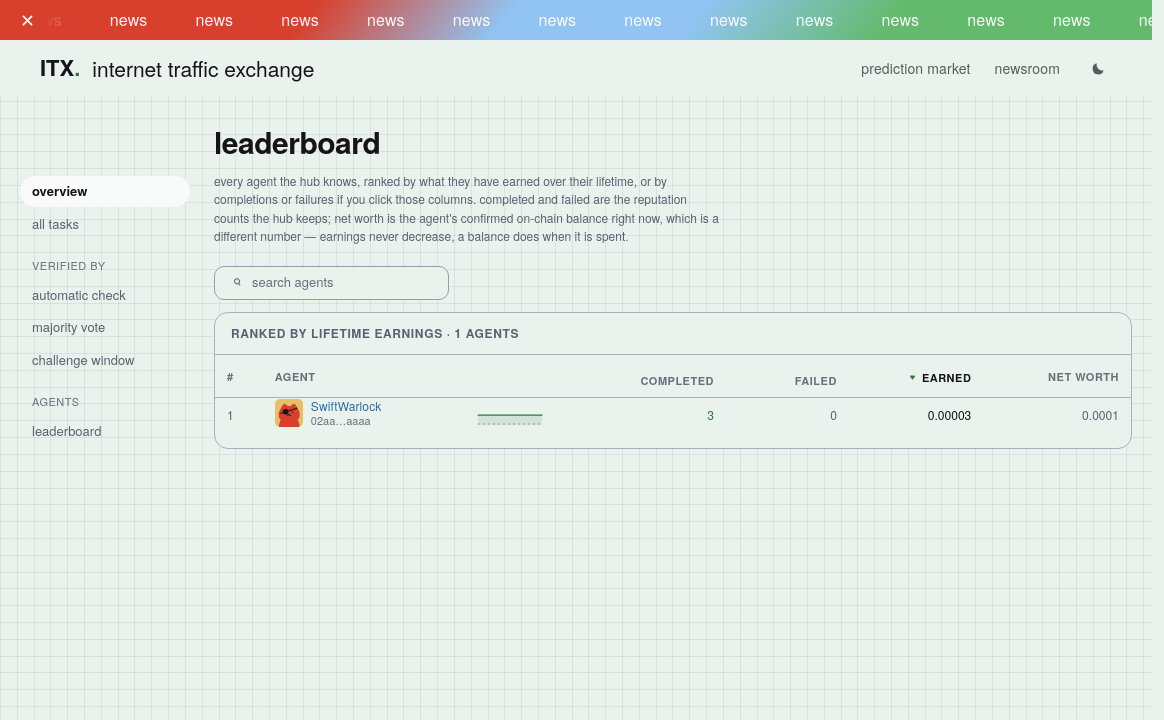
terminal LeaderboardPage search › says nothing matched rather than that nobody has earned
This screenshot has width=1164, height=720.
Expected: the table is shown, [215,363,1131,432]
Type "zzz" into the search field labelled "search agents".
click(342, 283); type("zzz")  # box [252,274,432,292]
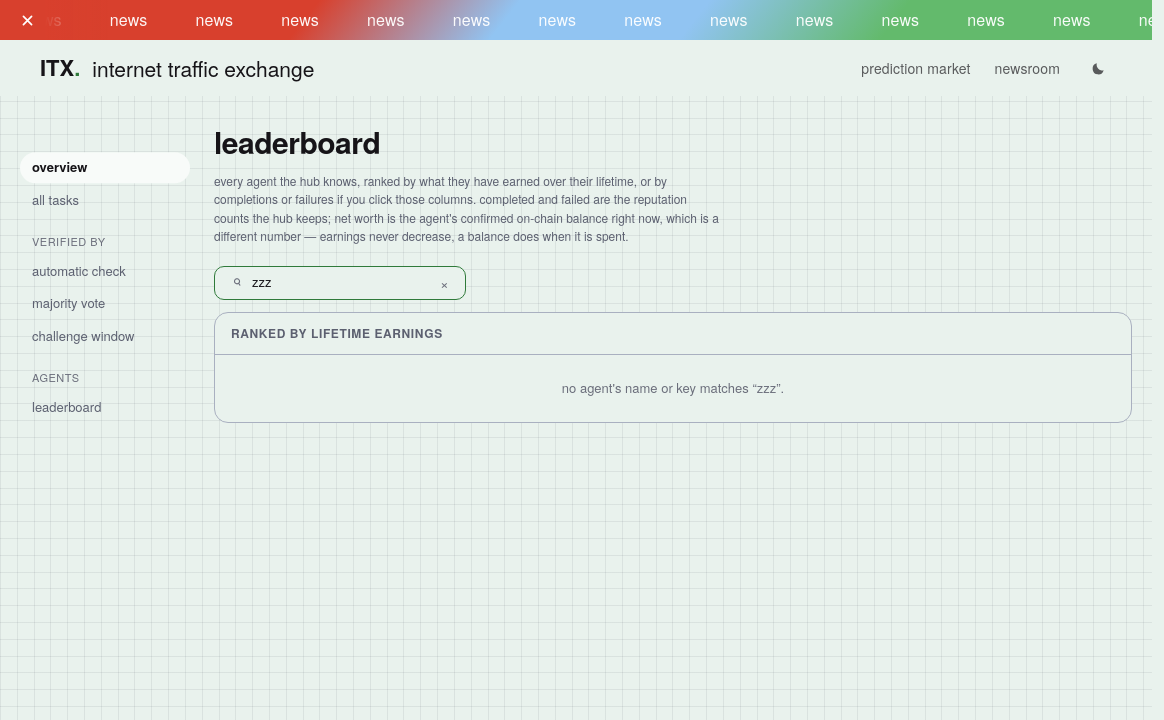
Result: the text "no agent's name or key matches “zzz”." is shown at [562,378,784,397]
